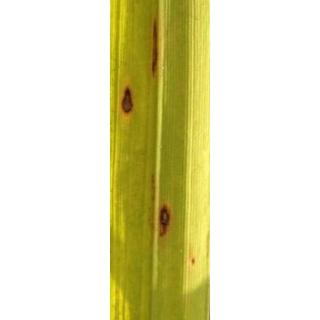bercak-Cokelat: (142, 12, 168, 77), (116, 81, 145, 127), (157, 197, 175, 235)
